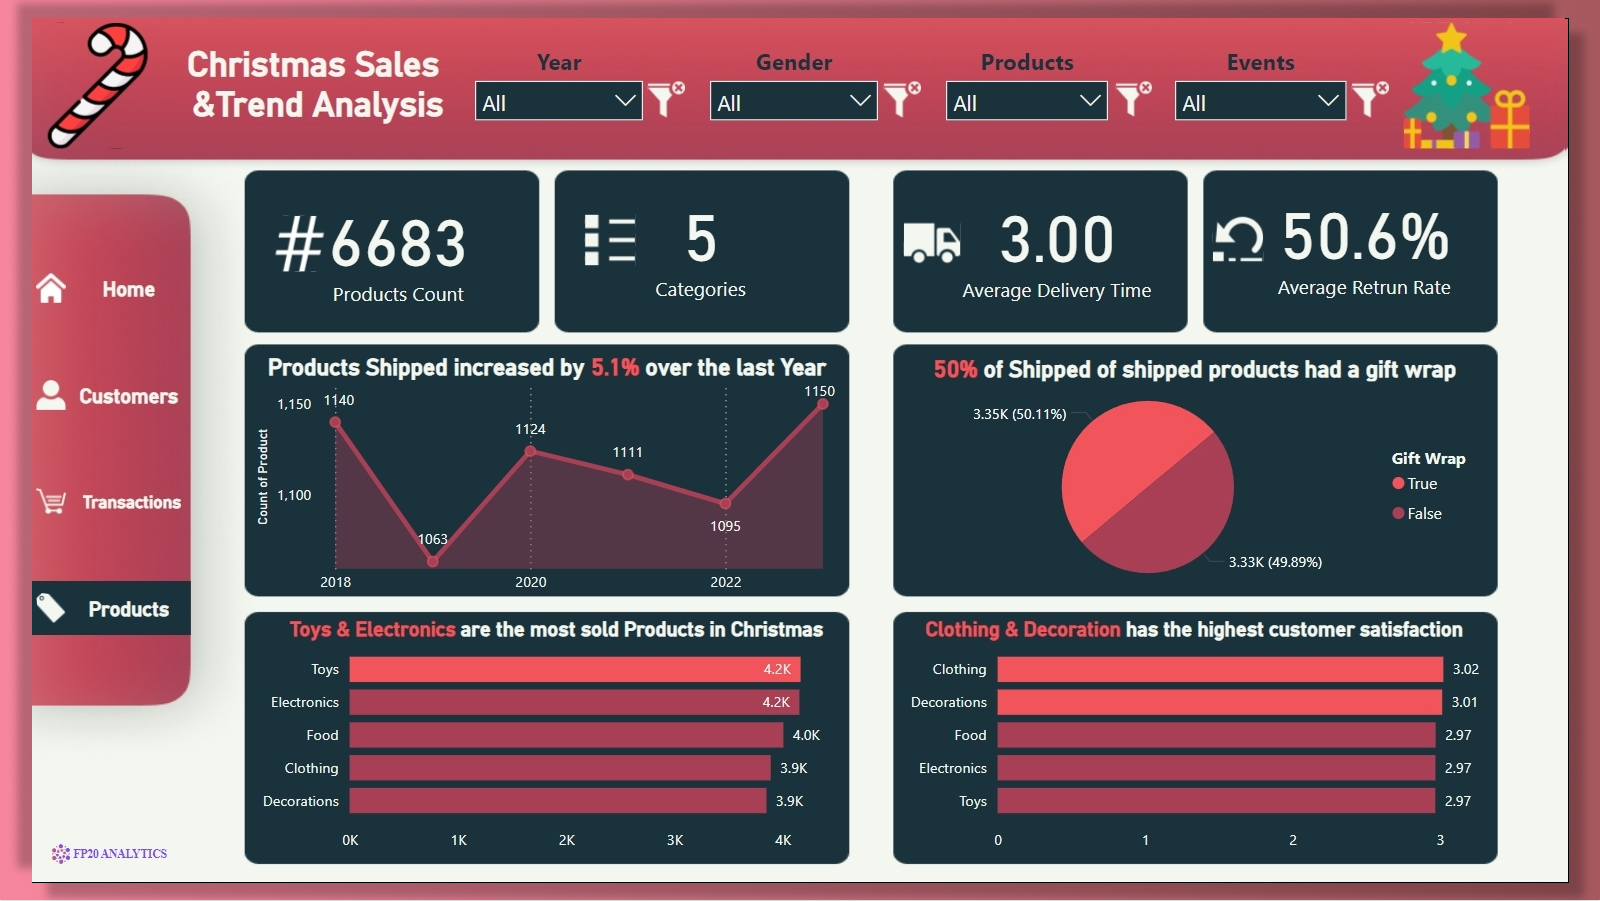

The page's visual inventory and layout, read from the dashboard file:
{"tool":"powerbi","page":{"name":"Products","canvas":[1280,720],"ordinal":3},"visuals":[{"type":"textbox","box":[61.1,16.6,358.3,87],"z":0},{"type":"actionButton","box":[0,291.8,134,45],"z":1000},{"type":"actionButton","box":[0,674.4,130,45.6],"z":4000},{"type":"actionButton","box":[0,0,115,112.9],"z":5000},{"type":"actionButton","box":[1141.2,0,115,112.9],"z":6000},{"type":"actionButton","box":[0,380,134,45],"z":7000},{"type":"actionButton","box":[0,469.1,134,45],"z":8000},{"type":"textbox","box":[198.2,494.5,480.9,31.8],"z":9000},{"type":"actionButton","box":[0,202.7,134,45],"z":10000},{"type":"card","fields":{"Values":["#Measures.Retrun Rate"]},"box":[1024.5,130,175.5,110.9],"z":13000},{"type":"textbox","box":[180.9,274.5,500,32.7],"z":14000},{"type":"actionButton","box":[724.5,160,55,55],"z":18000},{"type":"actionButton","box":[981.8,159.1,50,50],"z":19000},{"type":"actionButton","box":[458.2,160,50,50],"z":20000},{"type":"actionButton","box":[197.3,160.9,54.5,54.5],"z":21000},{"type":"textbox","box":[730,275.5,480.9,31.8],"z":22000},{"type":"textbox","box":[722.7,494.5,495.5,31.8],"z":23000},{"type":"card","title":"Transactions Count","fields":{"Values":["CountNonNull(CHRISTMAS SALES.Product ID)"]},"box":[233.6,139.1,147.3,104.5],"z":24000},{"type":"card","title":"Customers Average Age","fields":{"Values":["Count(CHRISTMAS SALES.Product)"]},"box":[476.4,133.6,164.5,107.3],"z":25000},{"type":"card","fields":{"Values":["Avg(CHRISTMAS SALES.Delivery Time)"]},"box":[770.9,135.5,170,104.5],"z":26000},{"type":"lineChart","fields":{"Y":["CountNonNull(CHRISTMAS SALES.Product)"],"Category":["CHRISTMAS SALES.Year"]},"box":[183.6,292.7,495.5,195.5],"z":27000},{"type":"pieChart","fields":{"Category":["CHRISTMAS SALES.Gift Wrap"],"Y":["CountNonNull(CHRISTMAS SALES.Quantity)"]},"box":[723.6,293.6,495.5,195],"z":28000},{"type":"barChart","fields":{"Category":["CHRISTMAS SALES.Product"],"Y":["Sum(CHRISTMAS SALES.Quantity)"]},"box":[183.6,508.2,495,195],"z":29000},{"type":"barChart","fields":{"Category":["CHRISTMAS SALES.Product","CHRISTMAS SALES.Payment Type"],"Y":["Avg(CHRISTMAS SALES.Customer Satisfaction)"]},"box":[723.6,508.2,495.5,195],"z":30000},{"type":"slicer","title":"Products","fields":{"Values":["CHRISTMAS SALES.Product Name"]},"box":[753.2,23.6,155,65],"z":30001},{"type":"slicer","title":"Events","fields":{"Values":["CHRISTMAS SALES.Event"]},"box":[944.5,23.6,162.5,65],"z":30002},{"type":"actionButton","box":[707.3,48.3,39.1,39.1],"z":30003},{"type":"slicer","title":"Gender","fields":{"Values":["CHRISTMAS SALES.Gender"]},"box":[557,23.6,160,80],"z":30004},{"type":"actionButton","box":[1097.3,48.3,39.1,39.1],"z":30005},{"type":"actionButton","box":[900.9,48.5,38.2,39.1],"z":30006},{"type":"actionButton","box":[510.9,48.3,39.1,39.1],"z":30007},{"type":"slicer","title":"Year","fields":{"Values":["CHRISTMAS SALES.Year"]},"box":[360.8,23.6,160,80],"z":30008}]}

Visuals, with their boxes in screenshot pixels (x1, y1, x2, y2), scaled from the page's 1280x720 canvas onto the 1600x901 screenshot:
textbox: (76, 21, 524, 130)
actionButton: (0, 365, 168, 421)
actionButton: (0, 844, 162, 900)
actionButton: (0, 0, 144, 141)
actionButton: (1426, 0, 1570, 141)
actionButton: (0, 476, 168, 532)
actionButton: (0, 587, 168, 643)
textbox: (248, 619, 849, 659)
actionButton: (0, 254, 168, 310)
card - #Measures.Retrun Rate: (1281, 163, 1500, 301)
textbox: (226, 344, 851, 384)
actionButton: (906, 200, 974, 269)
actionButton: (1227, 199, 1290, 262)
actionButton: (573, 200, 635, 263)
actionButton: (247, 201, 315, 270)
textbox: (912, 345, 1514, 385)
textbox: (903, 619, 1523, 659)
"Transactions Count" card: (292, 174, 476, 305)
"Customers Average Age" card: (596, 167, 801, 301)
card - Avg(CHRISTMAS SALES.Delivery Time): (964, 170, 1176, 300)
lineChart - CountNonNull(CHRISTMAS SALES.Product) x CHRISTMAS SALES.Year: (230, 366, 849, 611)
pieChart - CHRISTMAS SALES.Gift Wrap x CountNonNull(CHRISTMAS SALES.Quantity): (904, 367, 1524, 611)
barChart - CHRISTMAS SALES.Product x Sum(CHRISTMAS SALES.Quantity): (230, 636, 848, 880)
barChart - CHRISTMAS SALES.Product x CHRISTMAS SALES.Payment Type: (904, 636, 1524, 880)
"Products" slicer: (942, 30, 1135, 111)
"Events" slicer: (1181, 30, 1384, 111)
actionButton: (884, 60, 933, 109)
"Gender" slicer: (696, 30, 896, 130)
actionButton: (1372, 60, 1420, 109)
actionButton: (1126, 61, 1174, 110)
actionButton: (639, 60, 688, 109)
"Year" slicer: (451, 30, 651, 130)
